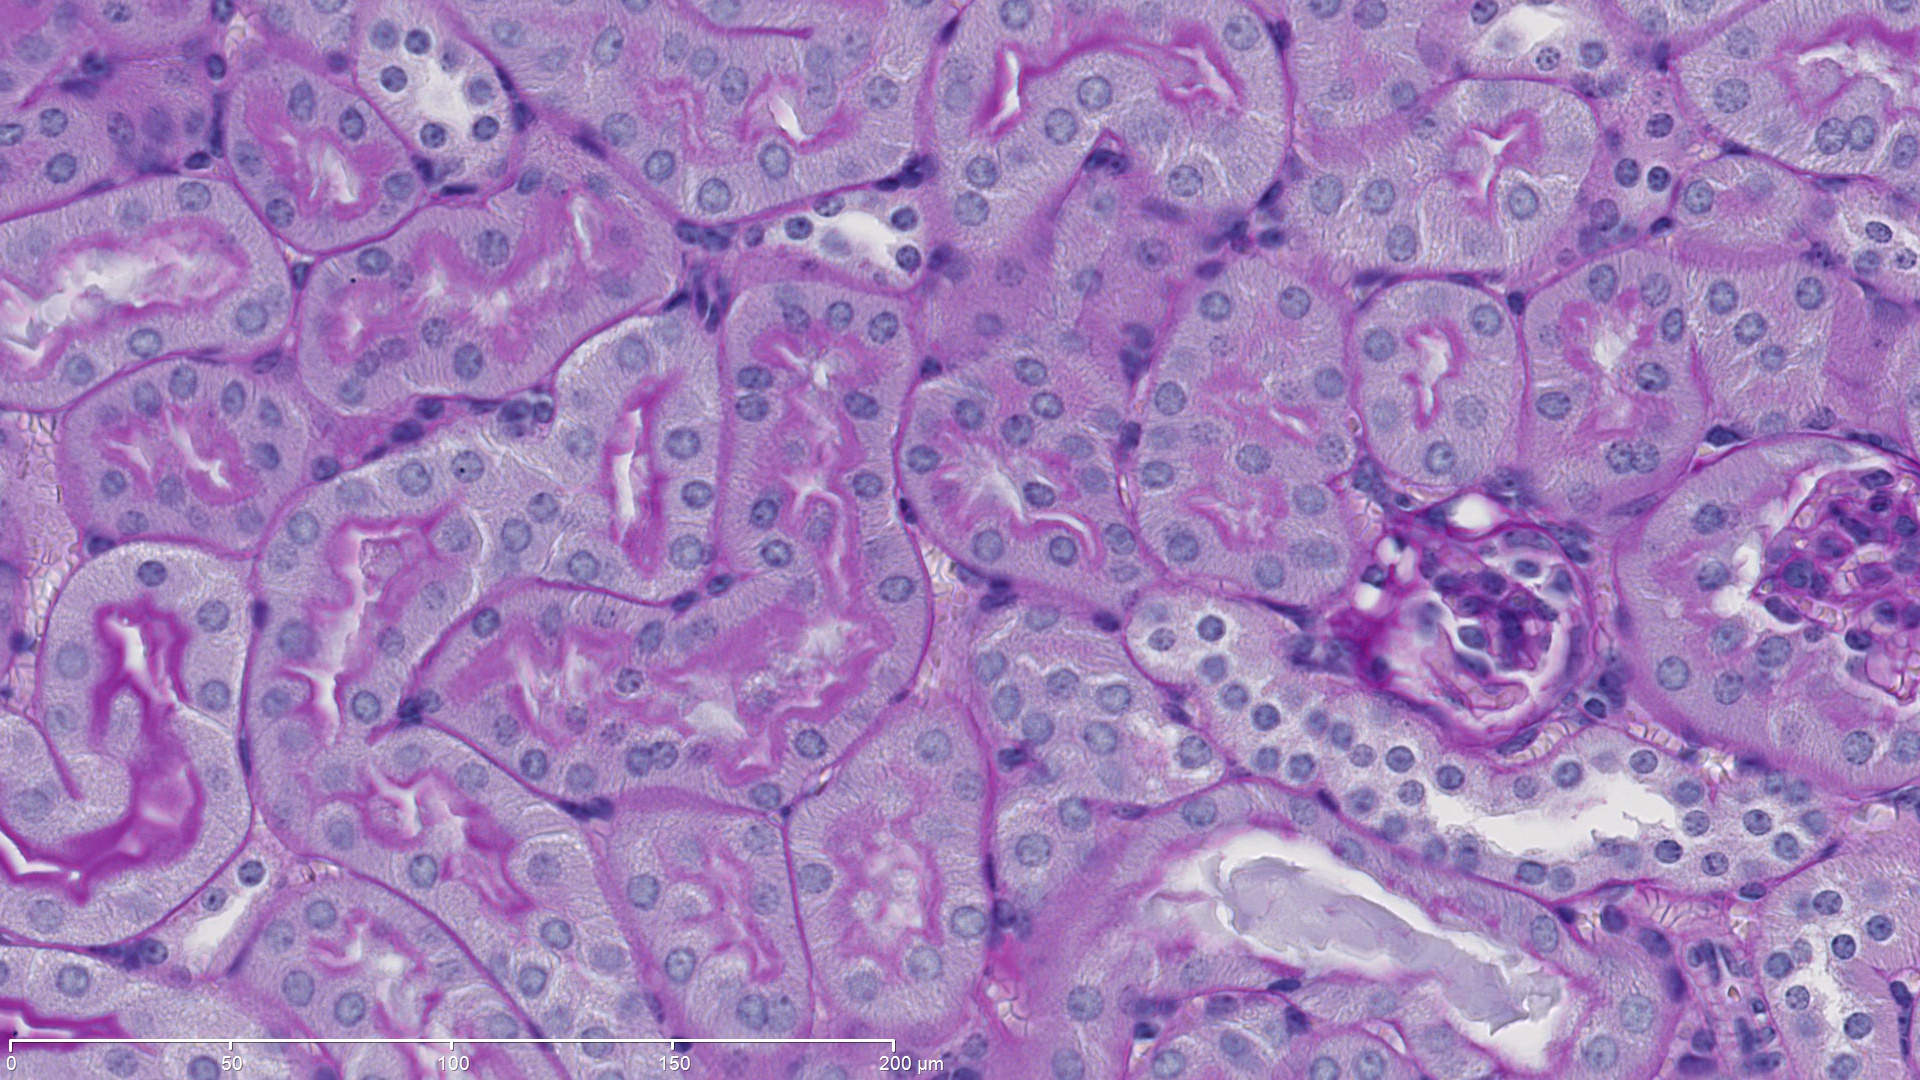Glomeruli: (1346, 501, 1614, 756), (1753, 458, 1920, 690)
